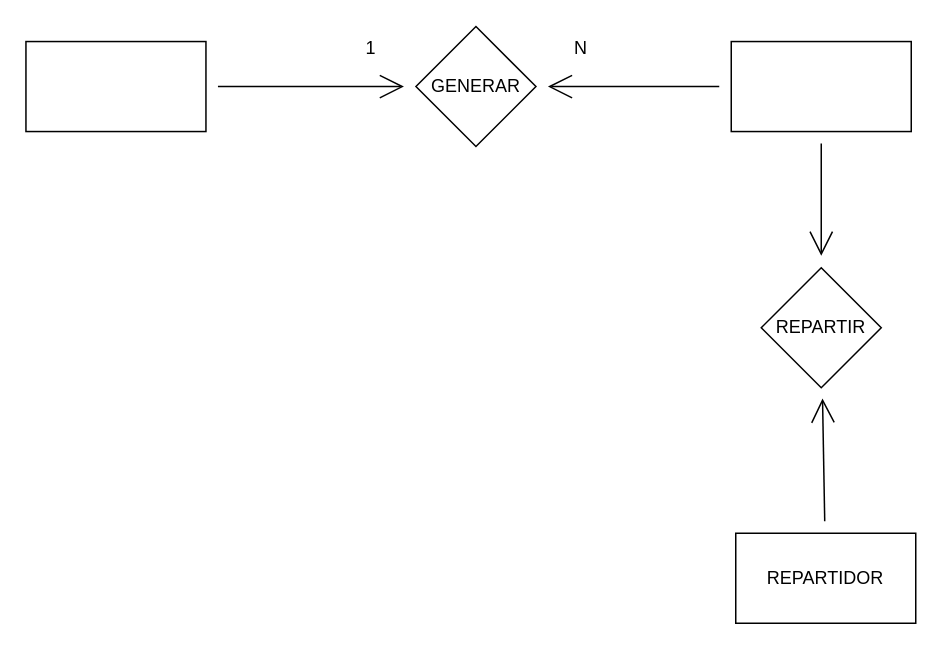
Some shapes in this 944 by 650 pixel diagram are drawn without their labels. Here are the shapes that lost their labels. From the top down, the centre of each, then its label:
point (115, 86): CLIENTE
point (820, 86): VENTAS
